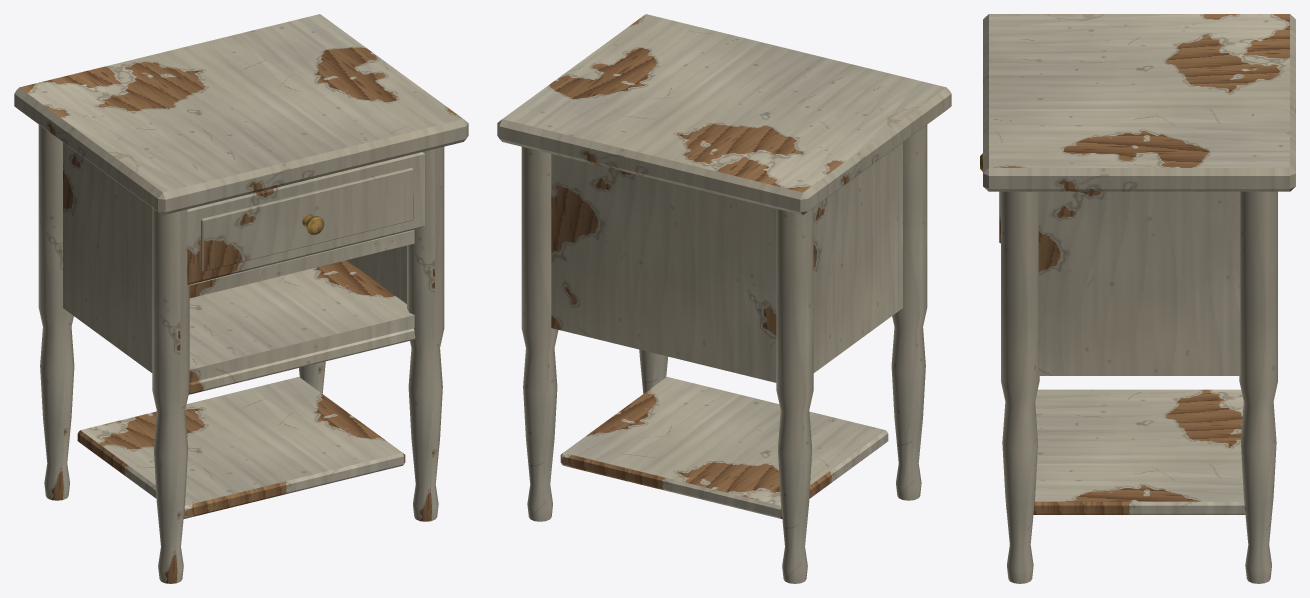
Rendered from bed_nightstand.obj.
3 views of the same model, side by side, from view 1: azimuth 30°, elevation 25°; view 2: azimuth 150°, elevation 25°; view 3: azimuth 270°, elevation 25° (orthographic). The views are drawn at different scales.
Parts seen in each view (by area): view 1: bed_nightstand_wood_painted_white; view 2: bed_nightstand_wood_painted_white; view 3: bed_nightstand_wood_painted_white.
Boxes of the visible parts, x1,y1,x2,y2 form: bed_nightstand_wood_painted_white: [14, 14, 468, 583]; bed_nightstand_wood_painted_white: [497, 14, 951, 583]; bed_nightstand_wood_painted_white: [983, 14, 1295, 583].
Bounding box in the file's own units: 0.5 × 0.62 × 0.42.
2 materials, 2 textured.
